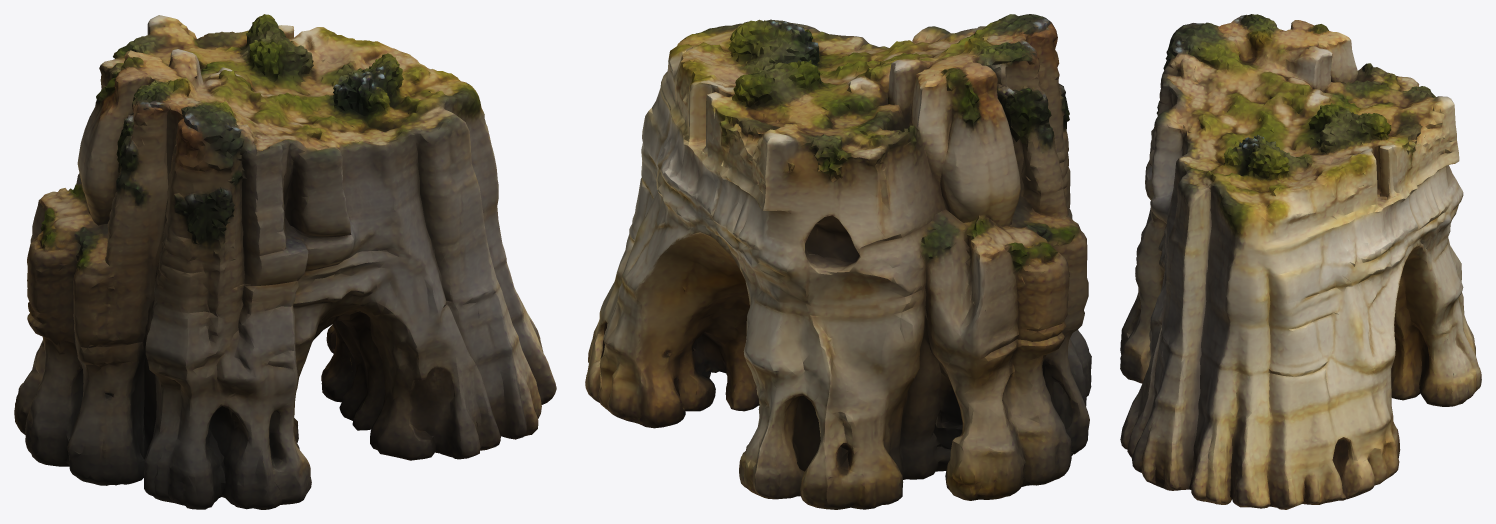
Rendered from shore_cliff_roshhanikra.glb.
3 renders of one model, left to right at view 1: azimuth 30°, elevation 25°; view 2: azimuth 150°, elevation 25°; view 3: azimuth 270°, elevation 25°, orthographic. The views are drawn at different scales.
Visible parts, largest first — view 1: geometry_0; view 2: geometry_0; view 3: geometry_0.
Boxes of the visible parts, <box> form: geometry_0: <box>14,14,556,509</box>; geometry_0: <box>585,14,1091,509</box>; geometry_0: <box>1120,14,1481,509</box>.
Size of the model in its own units: 30 by 23.5 by 22.66.
Materials: 1 (1 with a texture image).
